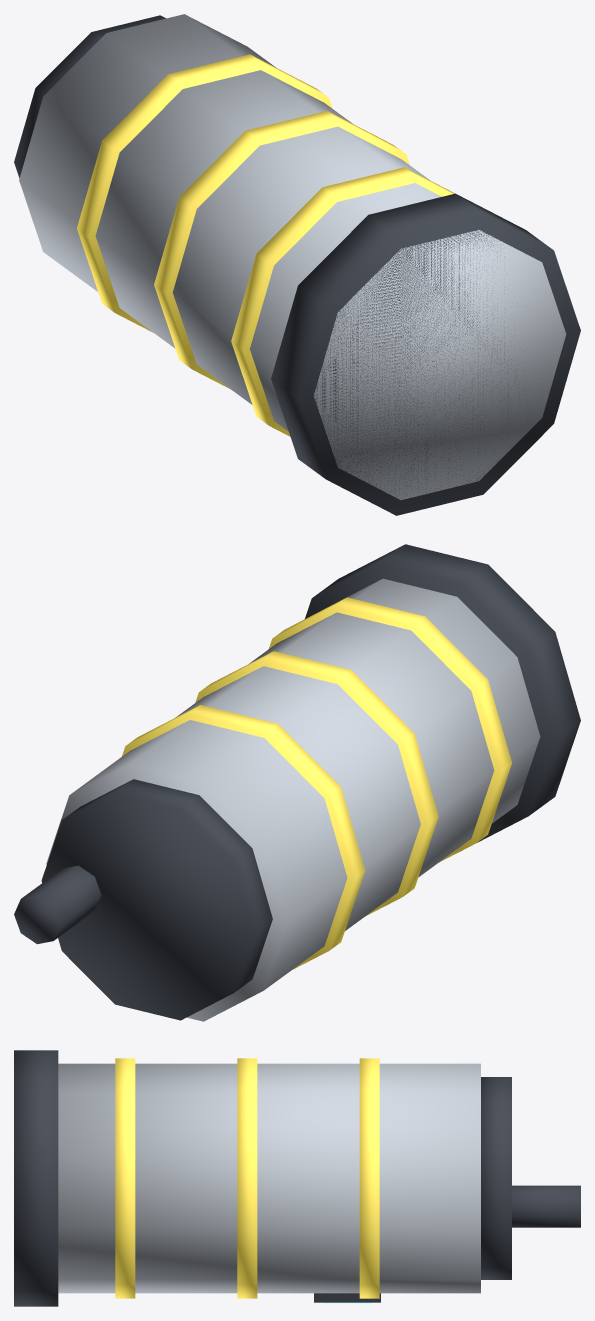
Rendered from prop_coolant_tank.glb.
3 views of the same model, one above another, from view 1: azimuth 30°, elevation 25°; view 2: azimuth 150°, elevation 25°; view 3: azimuth 270°, elevation 25° (orthographic). The views are drawn at different scales.
Parts seen in each view (by area): view 1: prop_coolant_tank; view 2: prop_coolant_tank; view 3: prop_coolant_tank.
Boxes of the visible parts, box(x1,y1,x2,y2) form: prop_coolant_tank: box(14, 14, 580, 515); prop_coolant_tank: box(14, 544, 580, 1021); prop_coolant_tank: box(14, 1050, 580, 1306).
Bounding box in the file's own units: 1.16 × 1.13 × 2.55.
